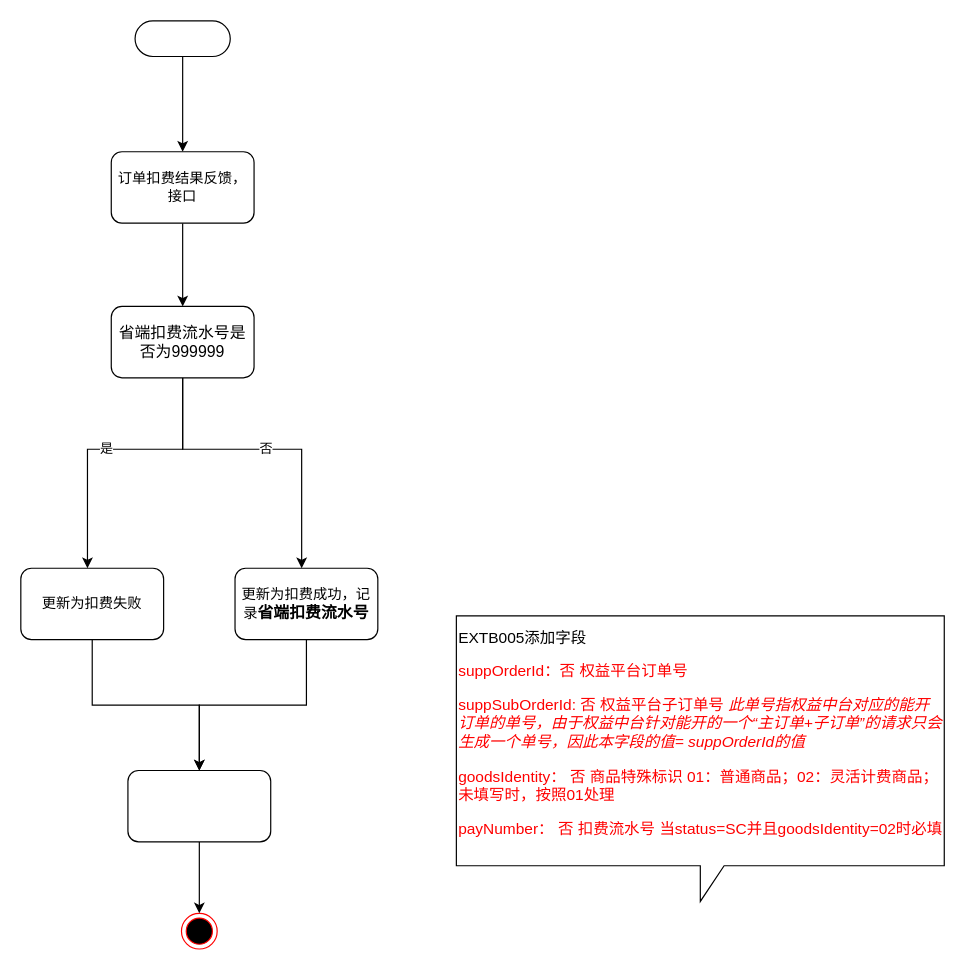
This 965x970 diagram has some shape labels left out. Each missing label, with the centre of its shape:
"一级账务反馈" goes at point 182,38.
"调用EXTF005接口" goes at point 199,805.
